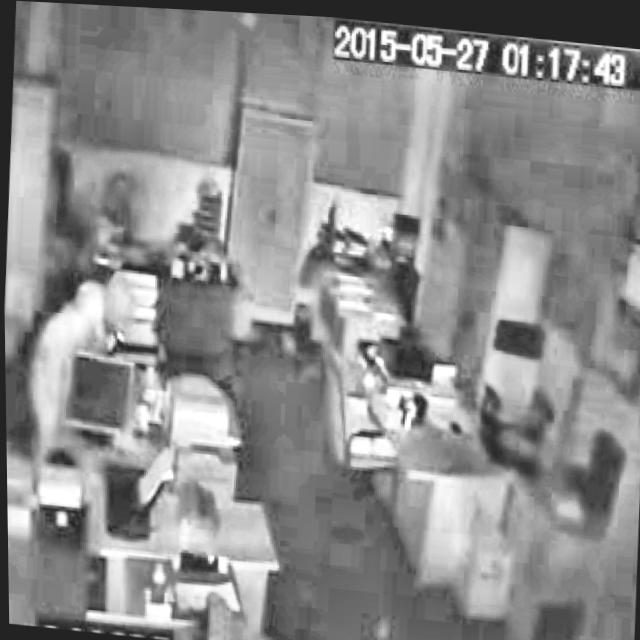burglary: (10, 270, 143, 493)
